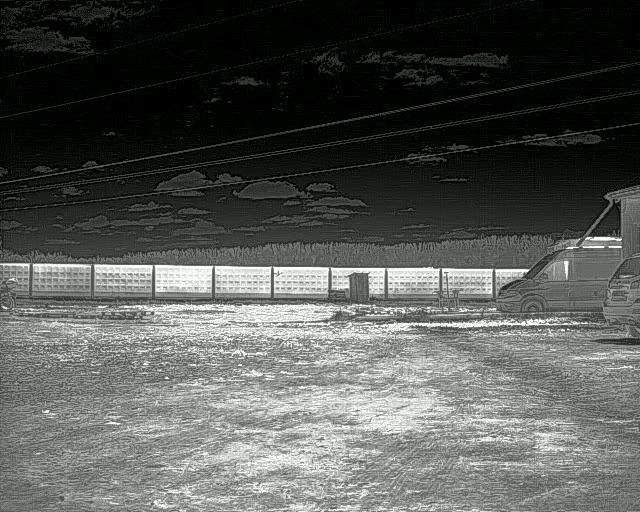drone-thermal: (274, 269, 284, 277)
